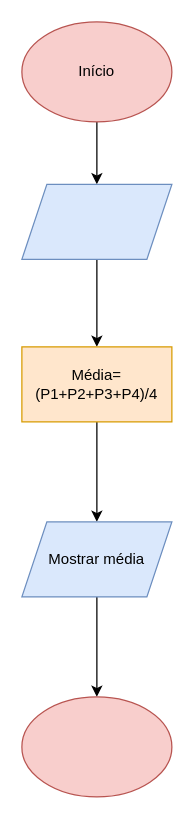
Image size: 194x819. Some labels were removed from this diagram. Each missing label, with the box of its shape:
Fim: (21, 696, 172, 797)
Ler P1,P2,P3,P4: (21, 183, 172, 259)
